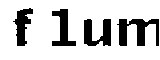1: (47, 6, 78, 50)
f: (12, 5, 35, 53)
m: (115, 13, 160, 51)
u: (82, 16, 112, 51)
